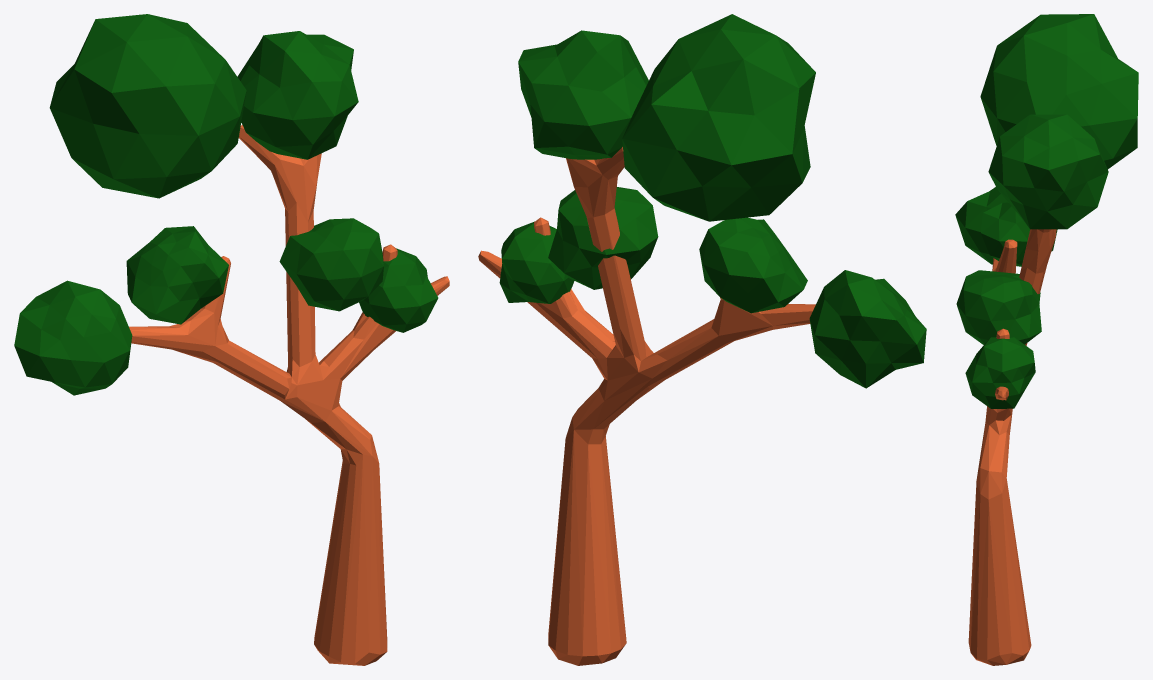
Rendered from tree.gltf.
3 renders of one model, left to right at view 1: azimuth 30°, elevation 25°; view 2: azimuth 150°, elevation 25°; view 3: azimuth 270°, elevation 25°, orthographic. The views are drawn at different scales.
Visible parts, largest first — view 1: Cube, Icosphere004, Icosphere, Icosphere003, Icosphere001, Icosphere002; view 2: Cube, Icosphere004, Icosphere, Icosphere003, Icosphere001, Icosphere002; view 3: Icosphere004, Cube, Icosphere003, Icosphere001, Icosphere002, Icosphere.
Part boxes in pixels (<box>): Cube: <box>129,125,449,665</box>; Icosphere004: <box>49,14,246,198</box>; Icosphere: <box>14,226,228,395</box>; Icosphere003: <box>237,31,358,159</box>; Icosphere001: <box>279,218,383,311</box>; Icosphere002: <box>359,248,438,332</box>; Cube: <box>478,147,815,665</box>; Icosphere004: <box>622,14,815,221</box>; Icosphere: <box>699,217,926,388</box>; Icosphere003: <box>518,30,648,159</box>; Icosphere001: <box>548,187,658,289</box>; Icosphere002: <box>499,221,574,303</box>; Icosphere004: <box>980,14,1138,169</box>; Cube: <box>968,229,1056,665</box>; Icosphere003: <box>988,114,1108,229</box>; Icosphere001: <box>956,270,1041,344</box>; Icosphere002: <box>965,337,1035,408</box>; Icosphere: <box>955,187,1057,266</box>.
Size of the model in its own units: 397 by 588 by 172.
